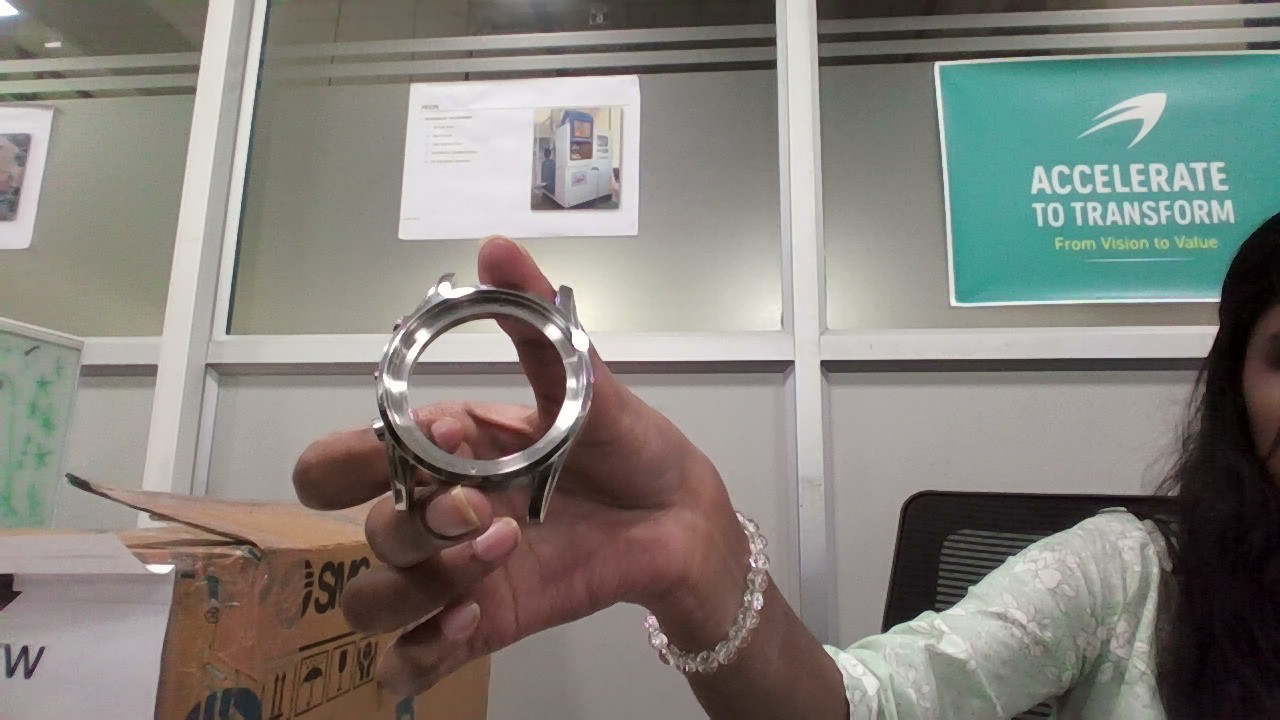case1: (370, 272, 591, 520)
